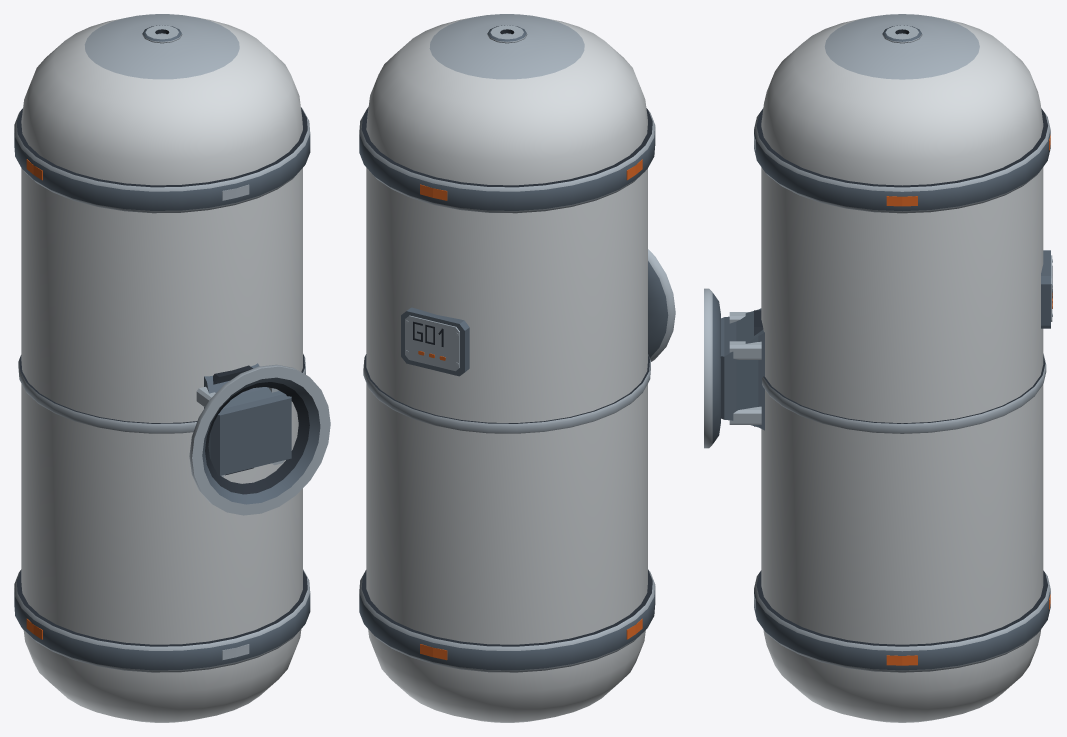
The model's file is tanque_combustible_g01.glb.
3 views of the same model, side by side, from view 1: azimuth 30°, elevation 25°; view 2: azimuth 150°, elevation 25°; view 3: azimuth 270°, elevation 25° (orthographic).
Parts seen in each view (by area): view 1: G01 | Casco y tapas redondeadas, G01 | Bandas y marcas de inspección, G01 | Brida lateral y refuerzo integrado; view 2: G01 | Casco y tapas redondeadas, G01 | Bandas y marcas de inspección, G01 | Placa de identificación e indicadores, G01 | Brida lateral y refuerzo integrado; view 3: G01 | Casco y tapas redondeadas, G01 | Bandas y marcas de inspección, G01 | Brida lateral y refuerzo integrado, G01 | Placa de identificación e indicadores.
Boxes of the visible parts, bbox=[...] form: G01 | Casco y tapas redondeadas: bbox=[21, 14, 302, 722]; G01 | Bandas y marcas de inspección: bbox=[14, 107, 310, 672]; G01 | Brida lateral y refuerzo integrado: bbox=[189, 363, 330, 515]; G01 | Casco y tapas redondeadas: bbox=[366, 14, 647, 722]; G01 | Bandas y marcas de inspección: bbox=[359, 107, 655, 672]; G01 | Placa de identificación e indicadores: bbox=[401, 307, 469, 376]; G01 | Brida lateral y refuerzo integrado: bbox=[648, 249, 675, 361]; G01 | Casco y tapas redondeadas: bbox=[761, 14, 1043, 722]; G01 | Bandas y marcas de inspección: bbox=[754, 108, 1050, 672]; G01 | Brida lateral y refuerzo integrado: bbox=[704, 288, 764, 448]; G01 | Placa de identificación e indicadores: bbox=[1041, 250, 1052, 328].
Size of the model in its own units: 1.2 by 3 by 1.41.
